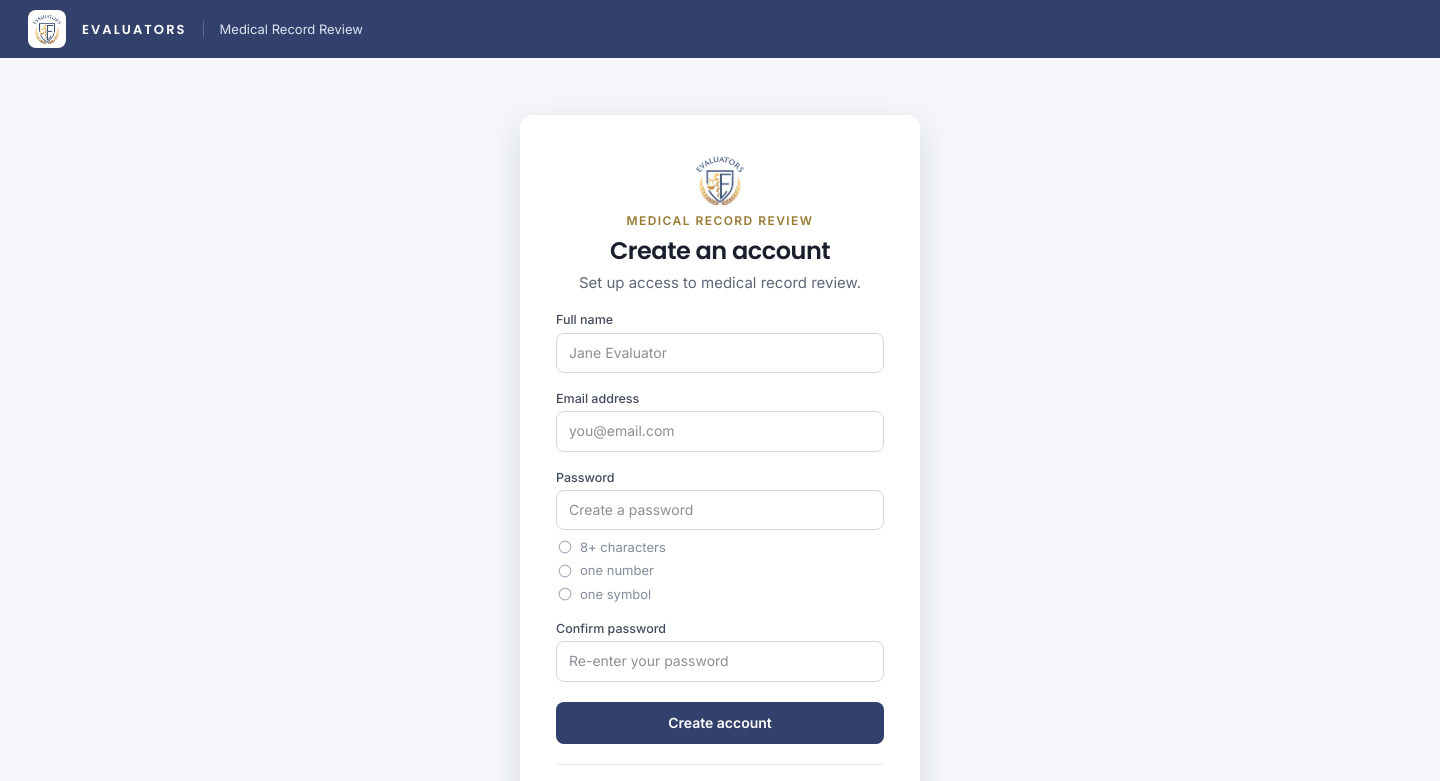
Test: auth forms on a dropped connection › register › says the server was unreachable instead of blaming the details
Type "A Reviewer" into the field labelled "Full name".
click(720, 353); type("A Reviewer")  # box [556, 333, 884, 373]
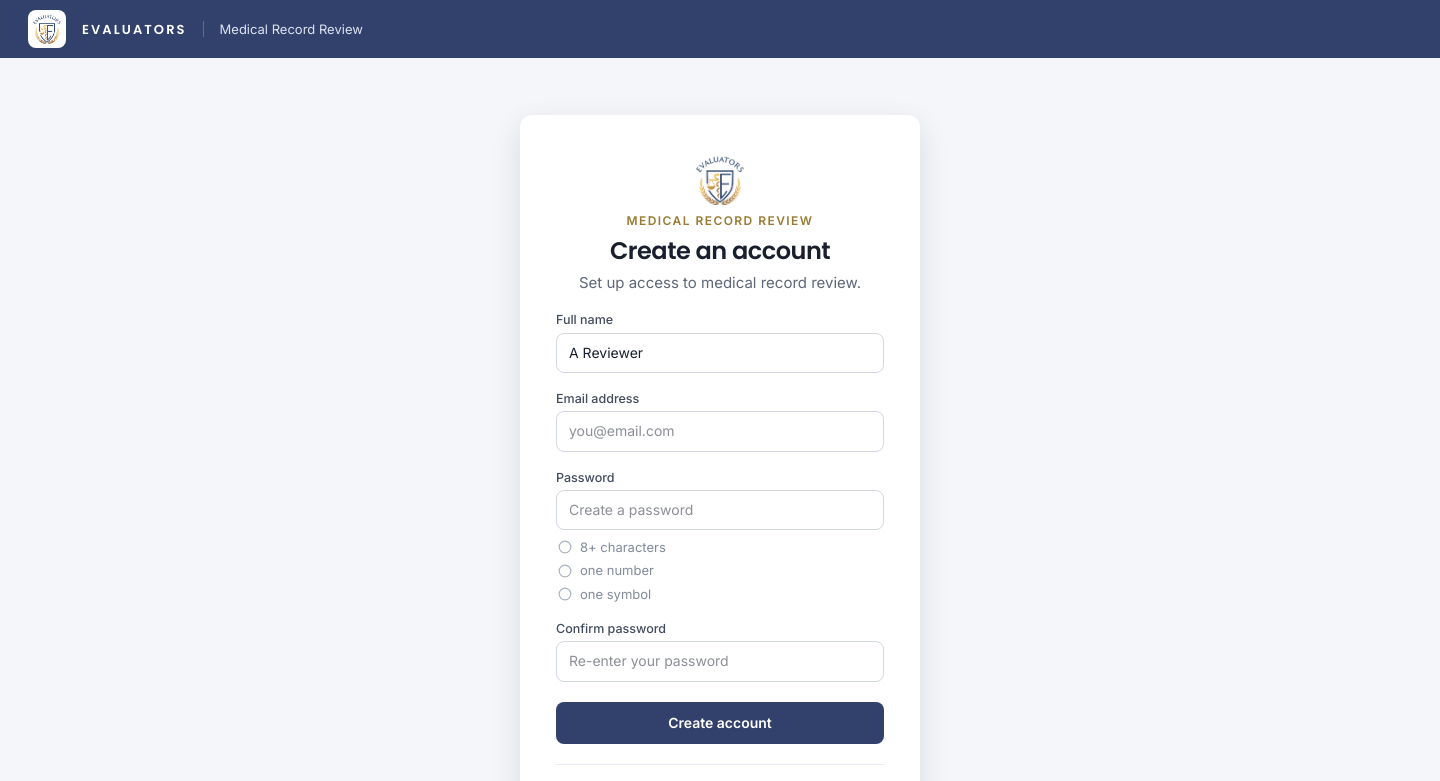
Type "a@b.com" into the field labelled "Email address".
click(720, 432); type("a@b.com")  # box [556, 411, 884, 452]
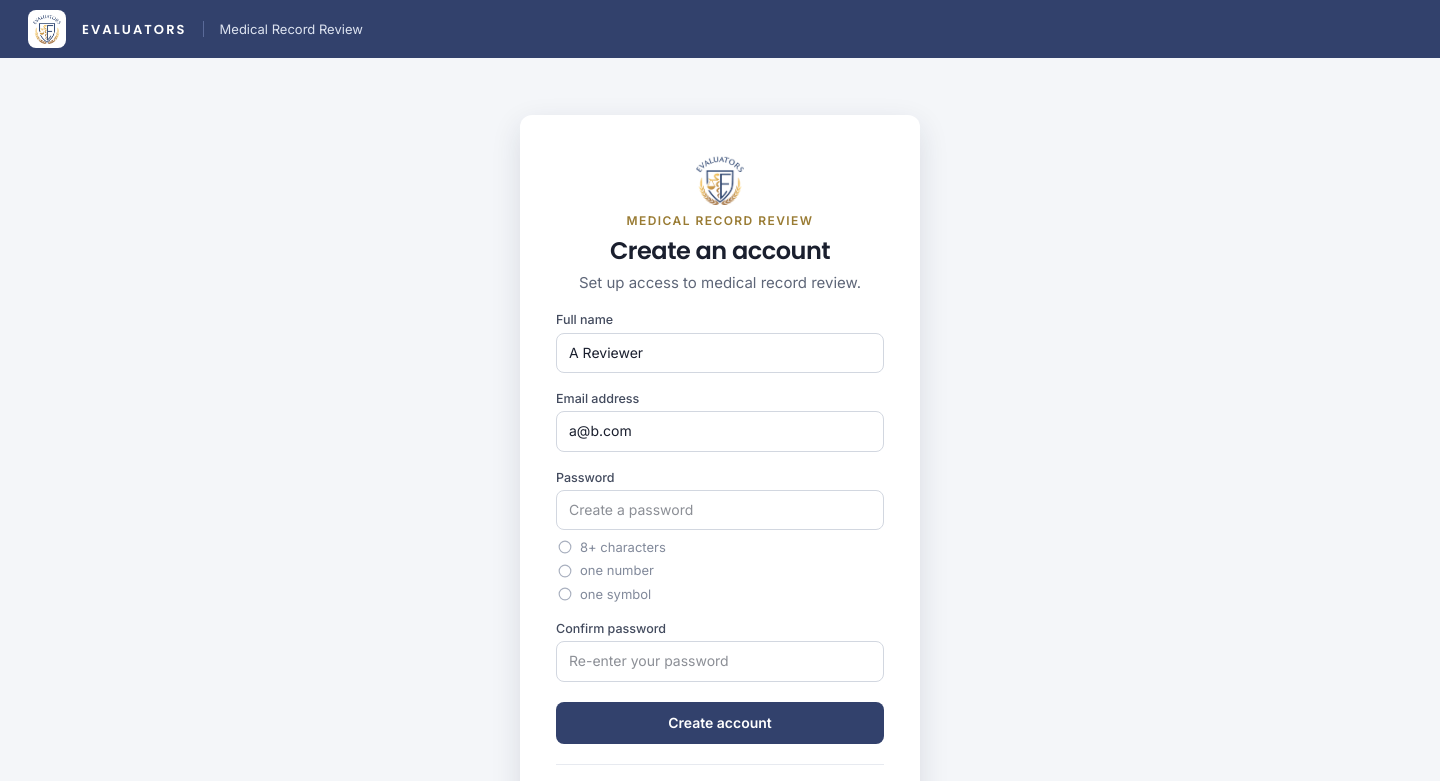
Type "Password!1" into the password field labelled "Password".
click(720, 510); type("Password!1")  # box [556, 490, 884, 530]
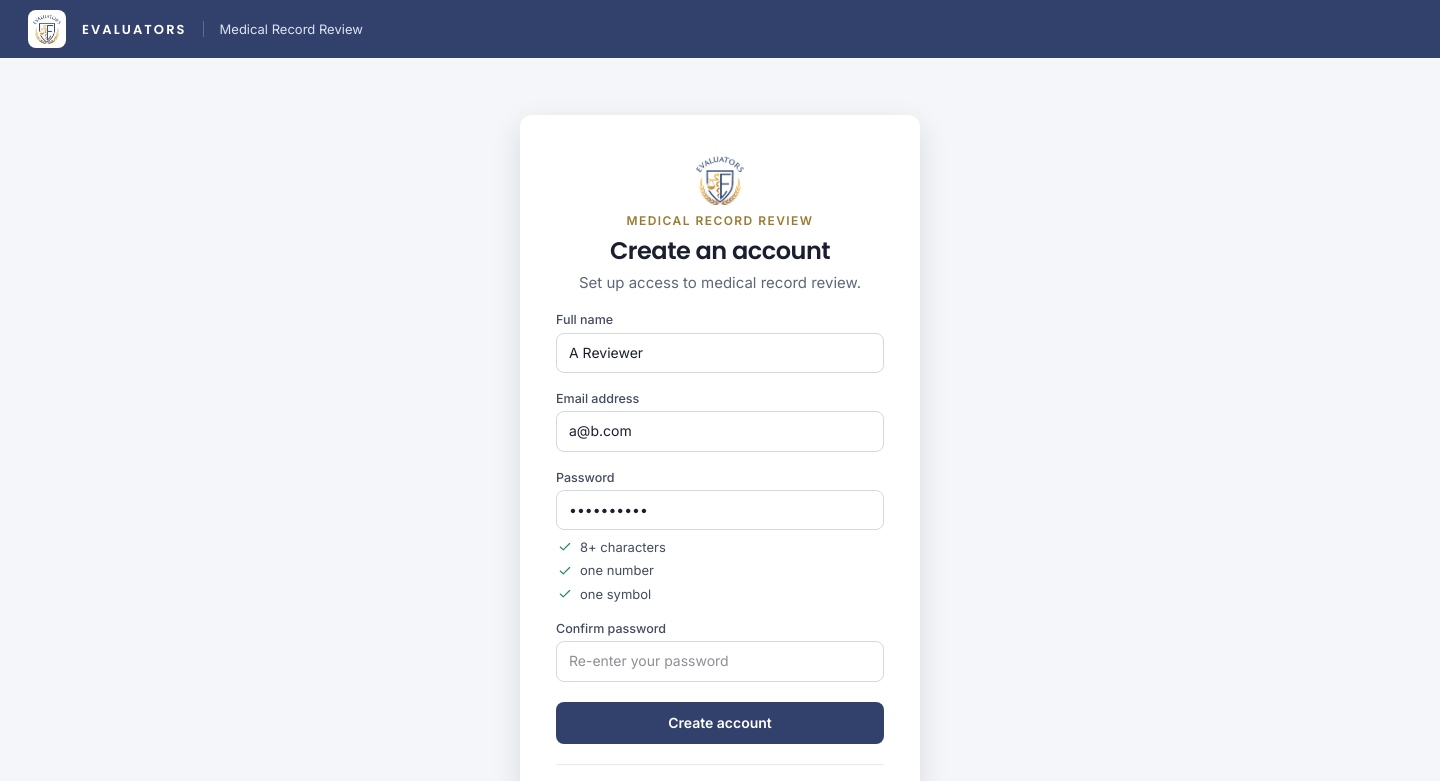
Type "Password!1" into the password field labelled "Confirm password".
click(720, 661); type("Password!1")  # box [556, 641, 884, 682]
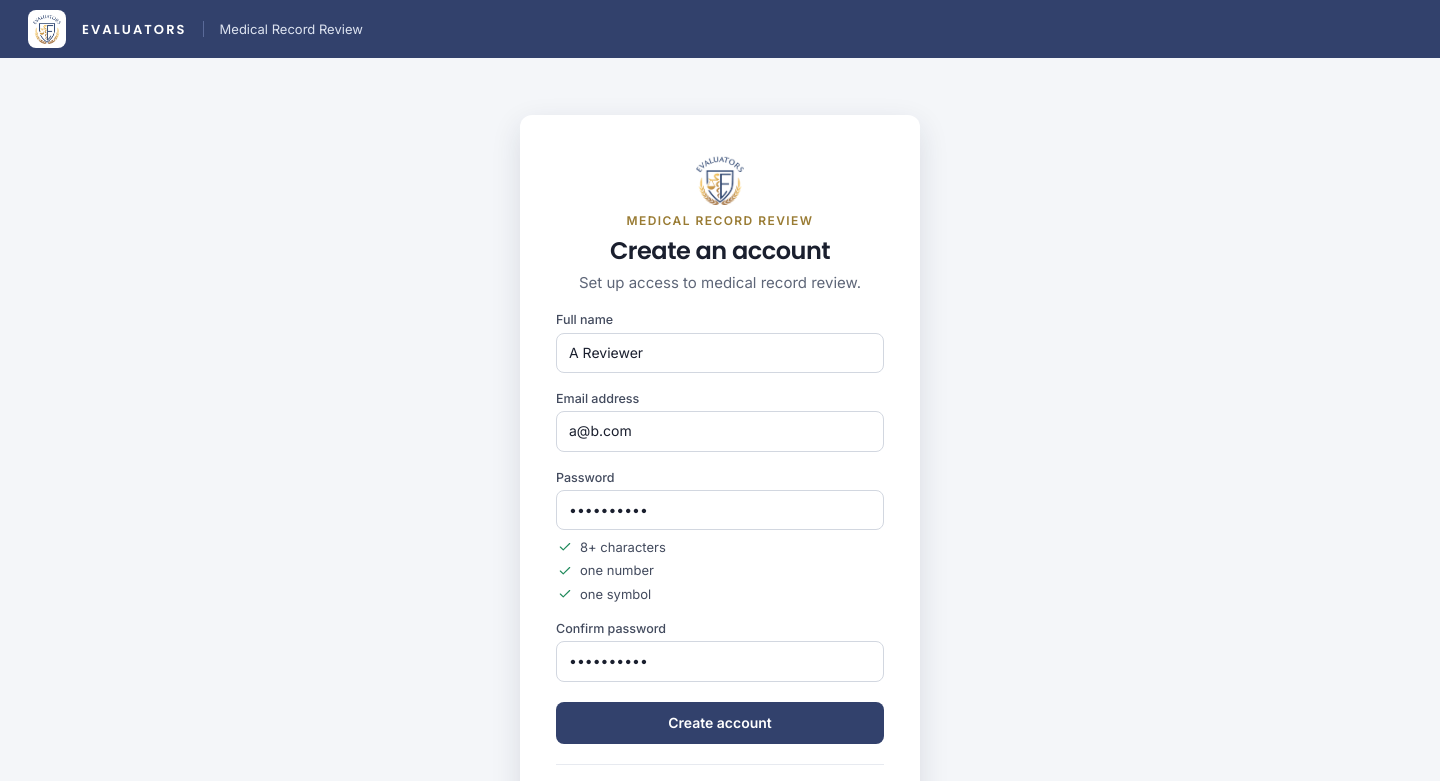
Click the button "Create account".
click(720, 722)  # box [556, 702, 884, 744]
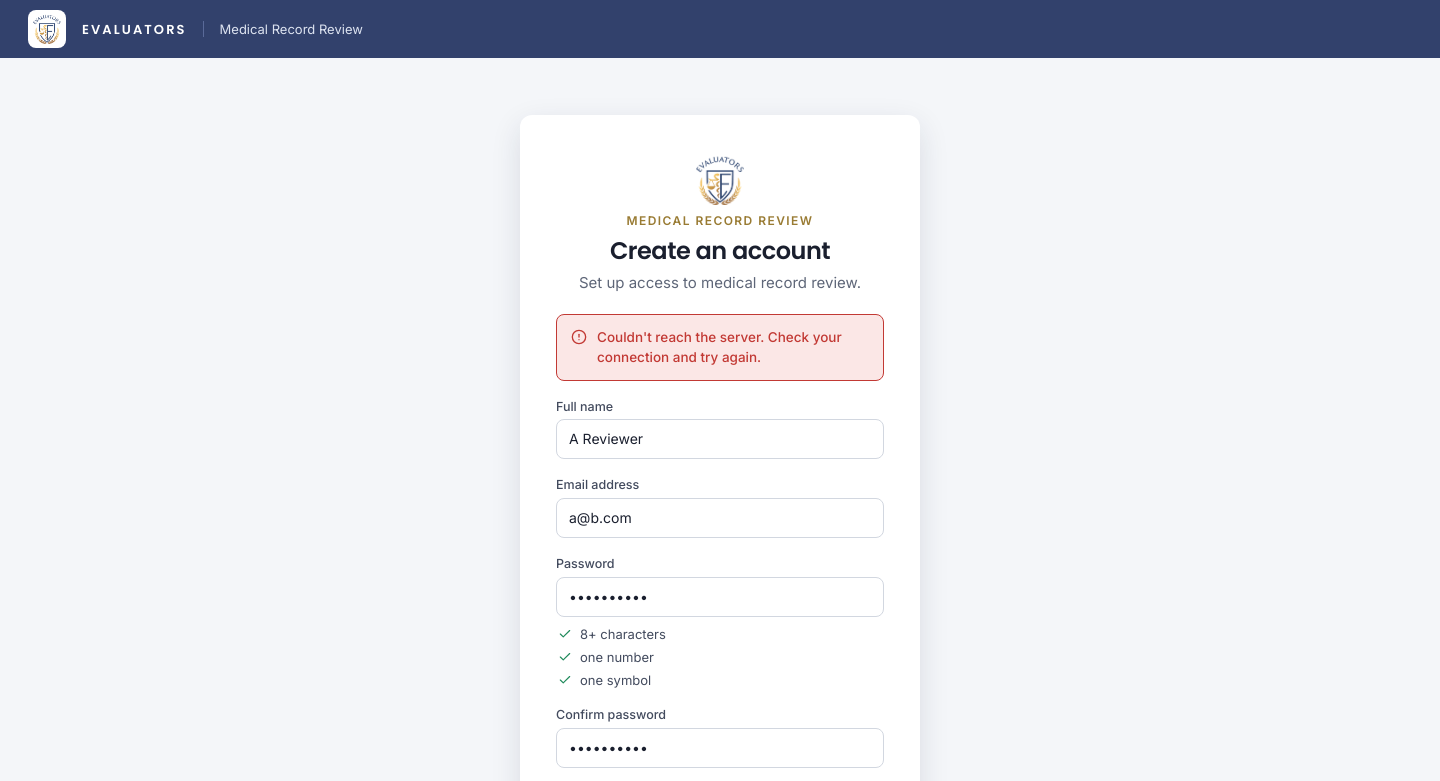
Expected: the text "Couldn't reach the server" is shown, [597, 329, 842, 366]
